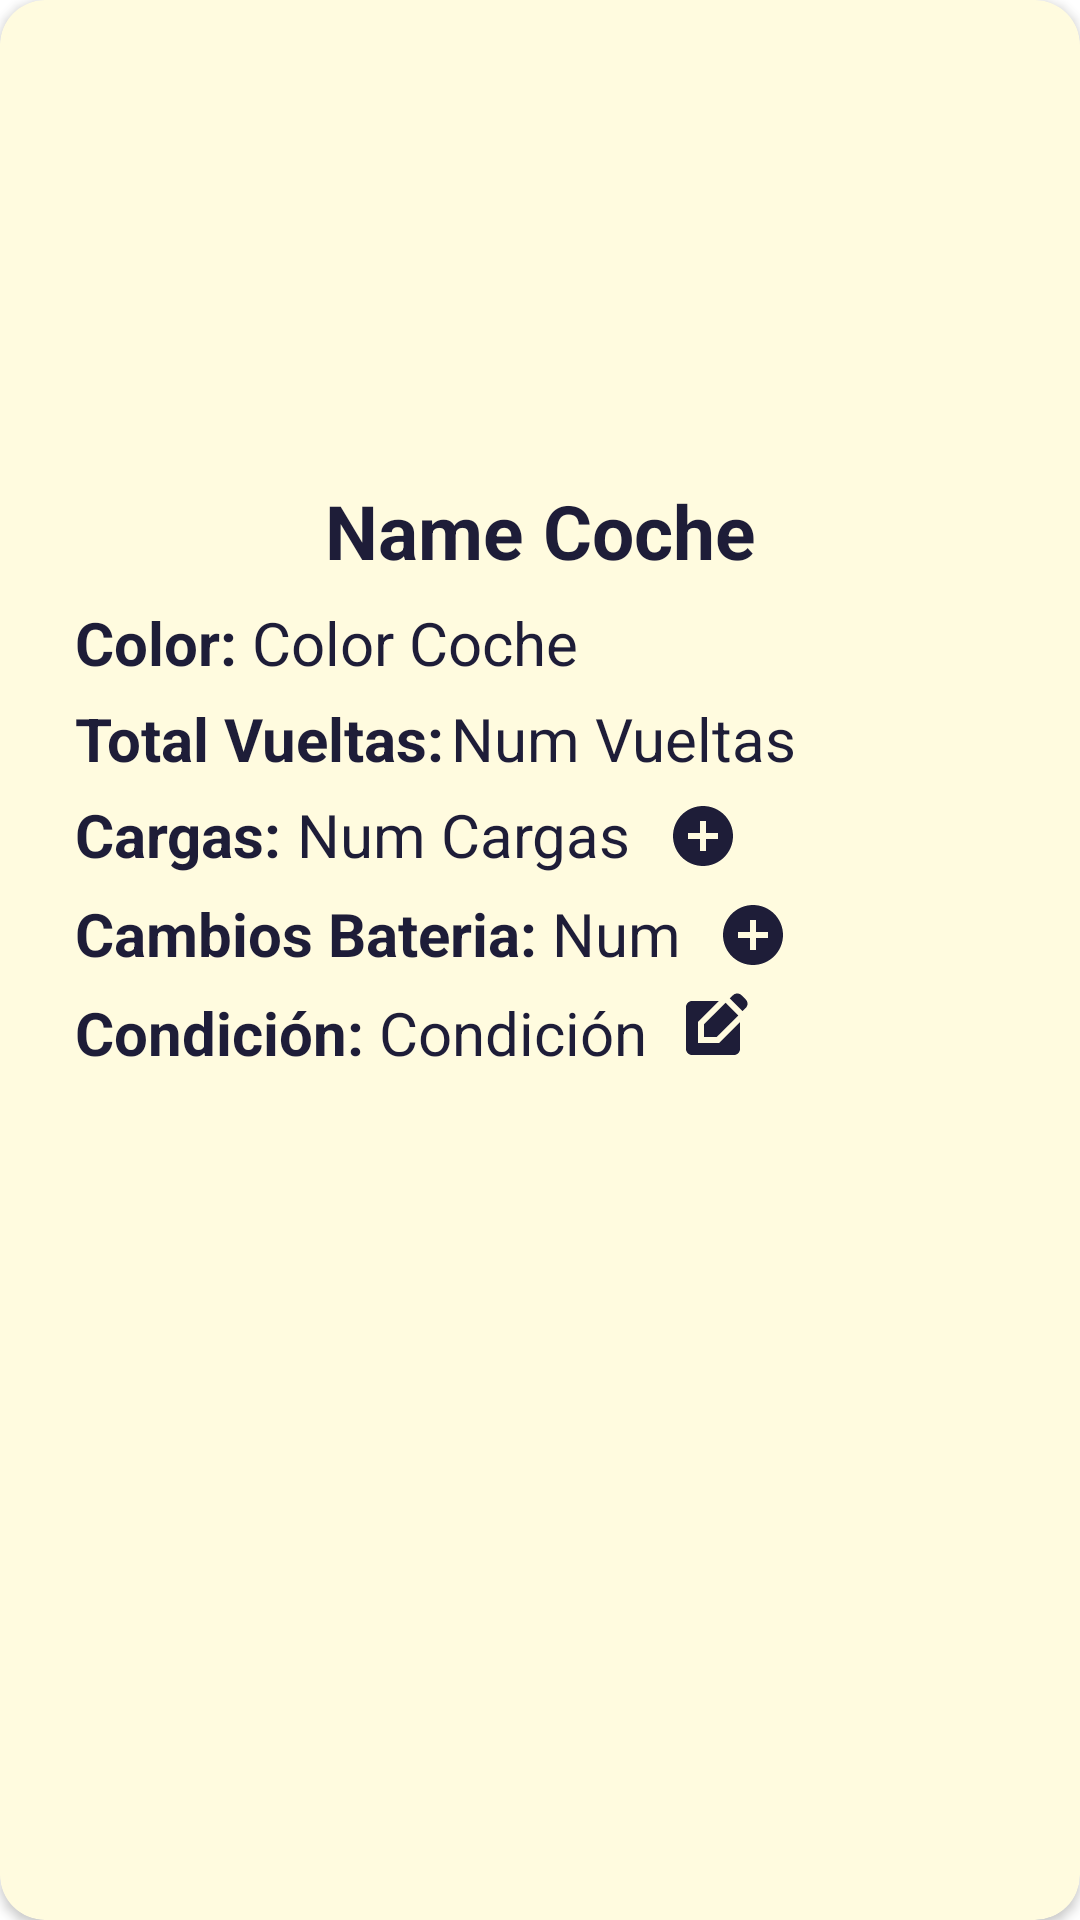

Where to tap for icons on this 1080px x 1920px app screen, as point (x, y):
add circle: point (703, 836), point (753, 935)
edit square: point (717, 1024)
